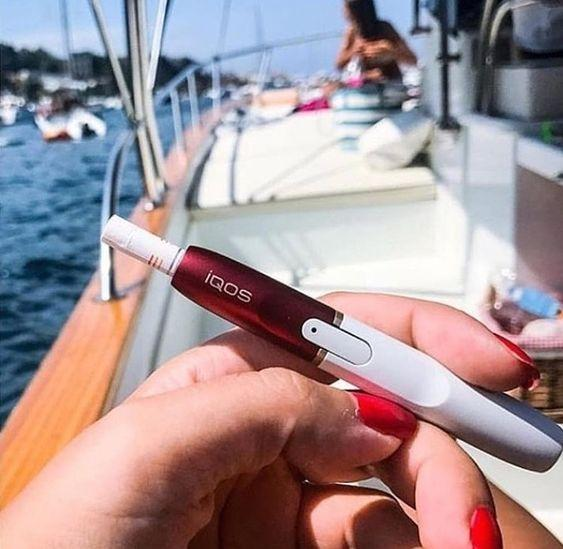iqos: (104, 216, 562, 472)
